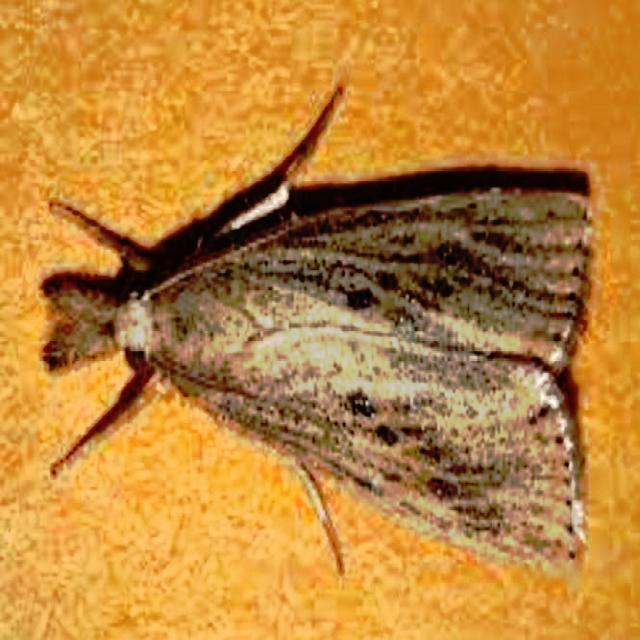stem-borer: (37, 76, 601, 580)
